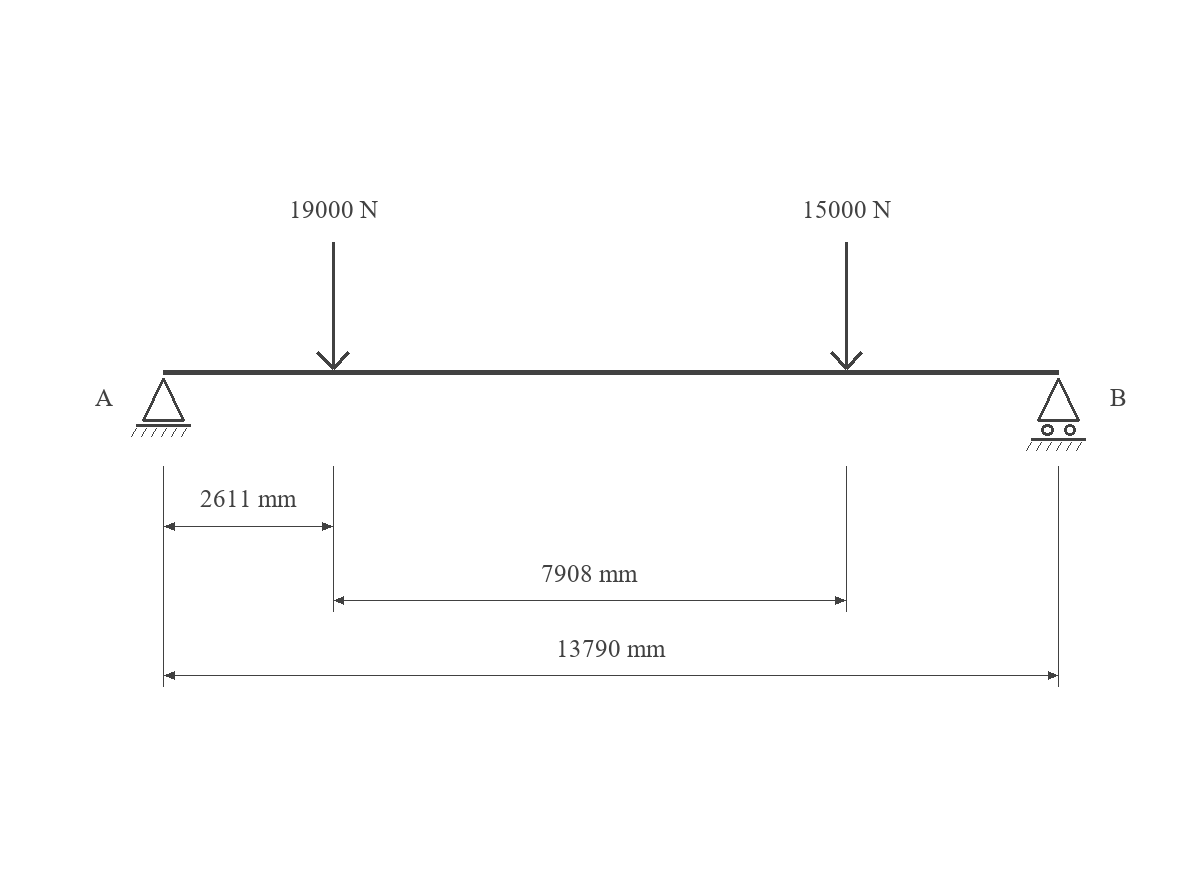pin_support: (131, 378, 191, 437)
point_load: (316, 242, 350, 370), (830, 242, 863, 370)
roller_support: (1026, 378, 1086, 451)
